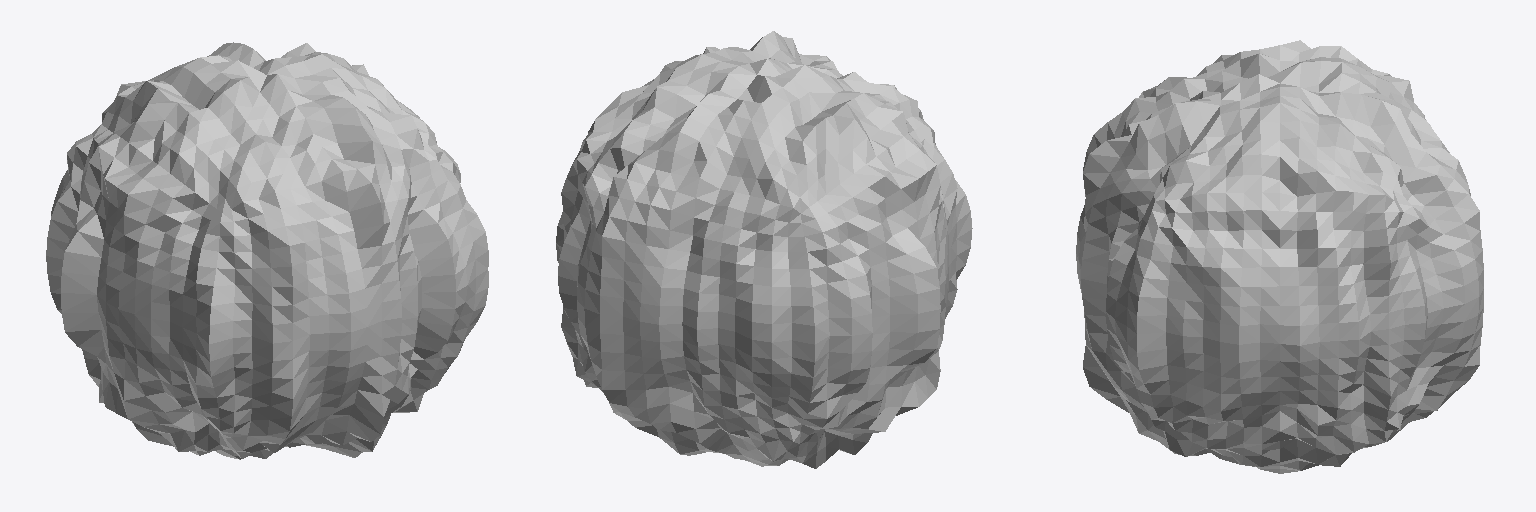
The model's file is asteroid117.obj.
3 renders of one model, left to right at view 1: azimuth 30°, elevation 25°; view 2: azimuth 150°, elevation 25°; view 3: azimuth 270°, elevation 25°, orthographic.
Parts seen in each view (by area): view 1: Cube_Cube.002; view 2: Cube_Cube.002; view 3: Cube_Cube.002.
Boxes of the visible parts, x1=… form: Cube_Cube.002: x1=46, y1=42, x2=488, y2=459; Cube_Cube.002: x1=556, y1=31, x2=972, y2=468; Cube_Cube.002: x1=1076, y1=40, x2=1483, y2=473.
Bounding box in the file's own units: 1.8 × 1.77 × 1.73.